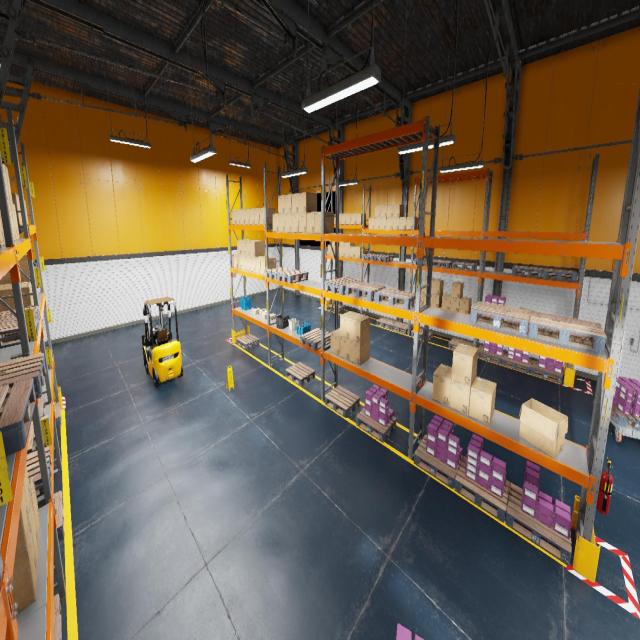box: (519, 398, 568, 458), (11, 521, 37, 613), (469, 376, 496, 426), (452, 342, 478, 387), (449, 377, 476, 415), (15, 485, 29, 554), (0, 253, 30, 283), (0, 284, 33, 311), (432, 363, 452, 407), (0, 282, 34, 304), (29, 476, 39, 540), (29, 496, 38, 566), (350, 314, 370, 343), (349, 338, 370, 365), (340, 311, 359, 339), (314, 211, 334, 233), (24, 464, 31, 519), (515, 308, 536, 326), (299, 192, 317, 212), (2, 163, 10, 203), (12, 193, 22, 225), (8, 202, 16, 241), (10, 203, 18, 240), (260, 256, 276, 274), (330, 328, 340, 356), (259, 207, 275, 224), (5, 166, 12, 203), (250, 240, 265, 256), (340, 336, 349, 360), (13, 204, 19, 239), (459, 297, 472, 313), (245, 240, 257, 256), (451, 282, 463, 298), (432, 279, 444, 295), (306, 212, 315, 233), (241, 240, 253, 255), (450, 297, 462, 312), (424, 278, 435, 294), (0, 209, 5, 244), (255, 256, 265, 273), (237, 240, 249, 254), (431, 294, 443, 308), (284, 194, 292, 213), (284, 213, 292, 232), (17, 194, 22, 224), (406, 217, 417, 230), (393, 204, 404, 217), (442, 294, 451, 309), (299, 213, 306, 232), (0, 214, 4, 246), (278, 214, 285, 232), (272, 214, 279, 232), (292, 193, 298, 213), (355, 246, 365, 258), (292, 213, 298, 232), (356, 213, 366, 224), (278, 195, 284, 213), (24, 200, 28, 225), (424, 292, 432, 304), (386, 204, 393, 217), (244, 209, 250, 224), (250, 257, 256, 272), (24, 201, 28, 223), (34, 274, 38, 296), (399, 217, 406, 229), (392, 217, 399, 229), (254, 208, 259, 224), (241, 254, 246, 270), (350, 246, 357, 257), (249, 209, 254, 224), (240, 209, 245, 224), (246, 256, 251, 271), (233, 253, 238, 268), (386, 217, 392, 229), (374, 205, 380, 217), (380, 217, 386, 229), (374, 217, 380, 229), (368, 217, 374, 229), (237, 254, 242, 268), (381, 205, 386, 217), (236, 210, 240, 224), (232, 210, 236, 224), (420, 290, 424, 304), (351, 213, 356, 224), (346, 213, 351, 224), (8, 203, 11, 221), (345, 246, 350, 256), (341, 214, 346, 224), (262, 308, 270, 314), (270, 313, 276, 320), (253, 308, 260, 314), (259, 308, 266, 314), (345, 242, 355, 246), (341, 246, 345, 256), (328, 245, 332, 255), (344, 276, 353, 280), (262, 312, 267, 319), (332, 246, 335, 256), (339, 214, 341, 224), (341, 242, 345, 246), (33, 260, 34, 272), (339, 246, 340, 256), (334, 214, 335, 224), (4, 174, 5, 183), (37, 288, 38, 295), (332, 242, 334, 245), (340, 242, 340, 245)
forklift: (143, 297, 183, 386)
pallets: (506, 483, 572, 565), (454, 456, 510, 522), (528, 311, 607, 354), (0, 378, 36, 456), (413, 434, 462, 488), (0, 352, 46, 406), (470, 301, 531, 335), (356, 408, 396, 442), (26, 446, 51, 498), (0, 315, 38, 348), (324, 385, 360, 418), (27, 415, 50, 454), (0, 306, 40, 327), (375, 288, 415, 309), (610, 404, 640, 430), (346, 282, 386, 301), (530, 361, 563, 384), (285, 362, 315, 386), (300, 328, 331, 351), (324, 277, 360, 295), (502, 353, 531, 373), (54, 491, 64, 541), (32, 395, 45, 432), (542, 268, 578, 281), (478, 346, 504, 364), (277, 270, 308, 283), (512, 266, 543, 278), (265, 267, 293, 280), (236, 334, 259, 349), (54, 594, 61, 639), (411, 328, 433, 342), (448, 338, 473, 350), (39, 349, 53, 369), (391, 321, 412, 334), (376, 317, 396, 329), (452, 262, 476, 271), (413, 258, 435, 266), (54, 402, 61, 426), (433, 260, 454, 268), (327, 303, 344, 312), (482, 316, 507, 322), (374, 255, 393, 262), (362, 254, 381, 260)
